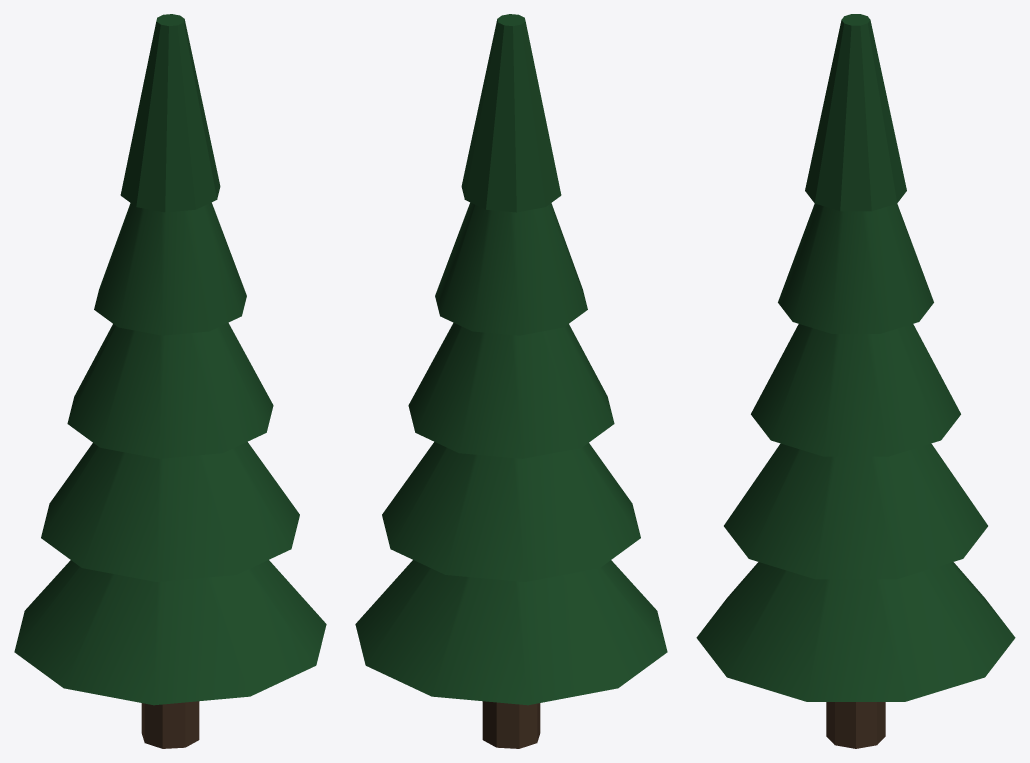
File: landscape.tree.pine_small.glb
3 views of the same model, side by side, from view 1: azimuth 30°, elevation 25°; view 2: azimuth 150°, elevation 25°; view 3: azimuth 270°, elevation 25° (orthographic).
Parts seen in each view (by area): view 1: main__foliage_dark, main__bark; view 2: main__foliage_dark, main__bark; view 3: main__foliage_dark, main__bark.
Boxes of the visible parts, x1=… form: main__foliage_dark: x1=14, y1=14, x2=326, y2=705; main__bark: x1=141, y1=701, x2=199, y2=748; main__foliage_dark: x1=355, y1=14, x2=667, y2=705; main__bark: x1=482, y1=701, x2=540, y2=748; main__foliage_dark: x1=696, y1=14, x2=1015, y2=701; main__bark: x1=826, y1=702, x2=885, y2=748.
Size of the model in its own units: 2.09 by 5.45 by 2.2.
